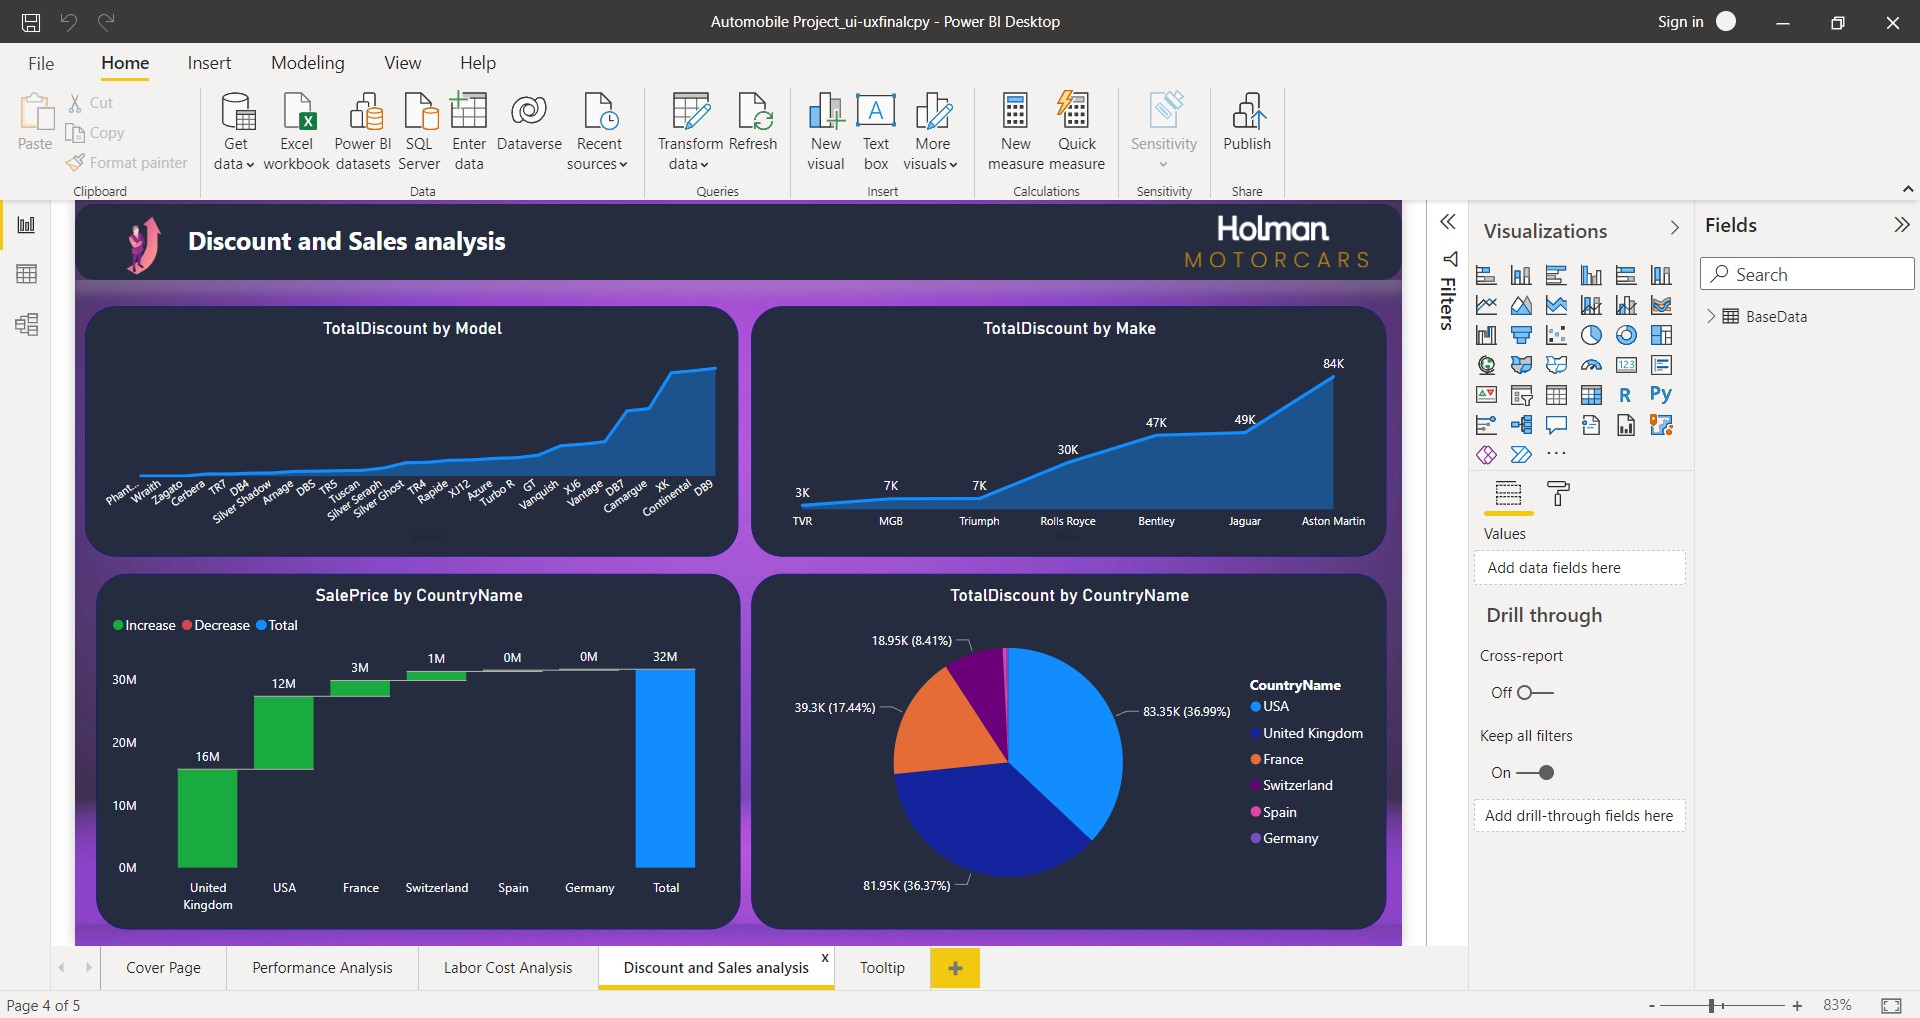

Layout of this report page (visuals, bound fields, positions):
{"tool":"powerbi","page":{"name":"Discount and Sales analysis","canvas":[1280,720],"ordinal":3},"visuals":[{"type":"waterfallChart","fields":{"Category":["BaseData.CountryName"],"Y":["Sum(BaseData.SalePrice)"]},"box":[20,360,621.4,342.9],"z":0},{"type":"pieChart","fields":{"Category":["BaseData.CountryName"],"Y":["Sum(BaseData.TotalDiscount)"]},"box":[652.9,360,612.9,342.9],"z":1000},{"type":"areaChart","fields":{"Category":["BaseData.Make"],"Y":["Sum(BaseData.TotalDiscount)"]},"box":[652.9,102.9,612.9,241.4],"z":2000},{"type":"areaChart","fields":{"Y":["Sum(BaseData.TotalDiscount)"],"Category":["BaseData.Model"]},"box":[10,102.9,630,241.4],"z":3000},{"type":"shape","box":[0,3.8,1280,73.8],"z":4000},{"type":"textbox","box":[103.3,18.3,365,58.3],"z":5000},{"type":"image","box":[1064.3,10,191.4,60],"z":6000},{"type":"image","box":[10,0,112.9,84.3],"z":7000}]}

Visuals, with their boxes on the page's 1280x720 design canvas (x1, y1, x2, y2). These are canvas units, not pixel positions in the 1920x1018 screenshot, which may show the page scaled, cropped or inside an application window:
waterfallChart - BaseData.CountryName x Sum(BaseData.SalePrice): left=20, top=360, right=641, bottom=703
pieChart - BaseData.CountryName x Sum(BaseData.TotalDiscount): left=653, top=360, right=1266, bottom=703
areaChart - BaseData.Make x Sum(BaseData.TotalDiscount): left=653, top=103, right=1266, bottom=344
areaChart - Sum(BaseData.TotalDiscount) x BaseData.Model: left=10, top=103, right=640, bottom=344
shape: left=0, top=4, right=1280, bottom=78
textbox: left=103, top=18, right=468, bottom=77
image: left=1064, top=10, right=1256, bottom=70
image: left=10, top=0, right=123, bottom=84
